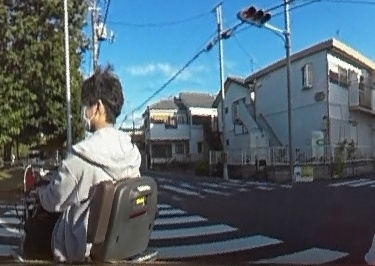person: (31, 72, 145, 266)
